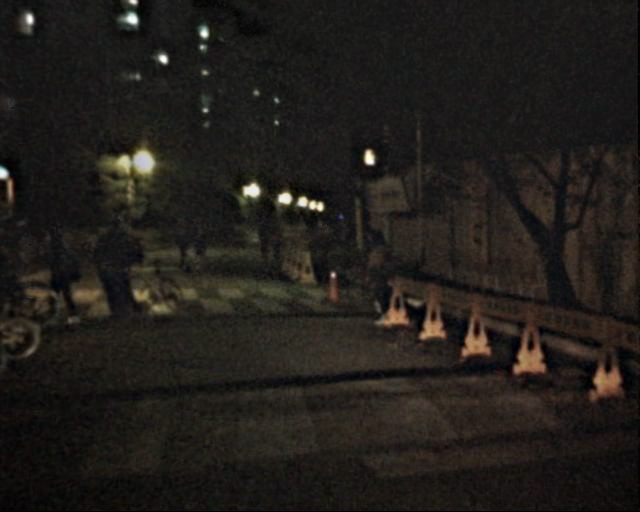person: (99, 211, 142, 315), (1, 216, 43, 320), (41, 221, 81, 318), (358, 229, 397, 325), (169, 213, 194, 275), (185, 217, 209, 275), (264, 219, 282, 262), (252, 222, 269, 264)
